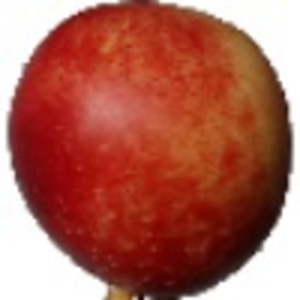nectarina: (5, 1, 295, 300)
